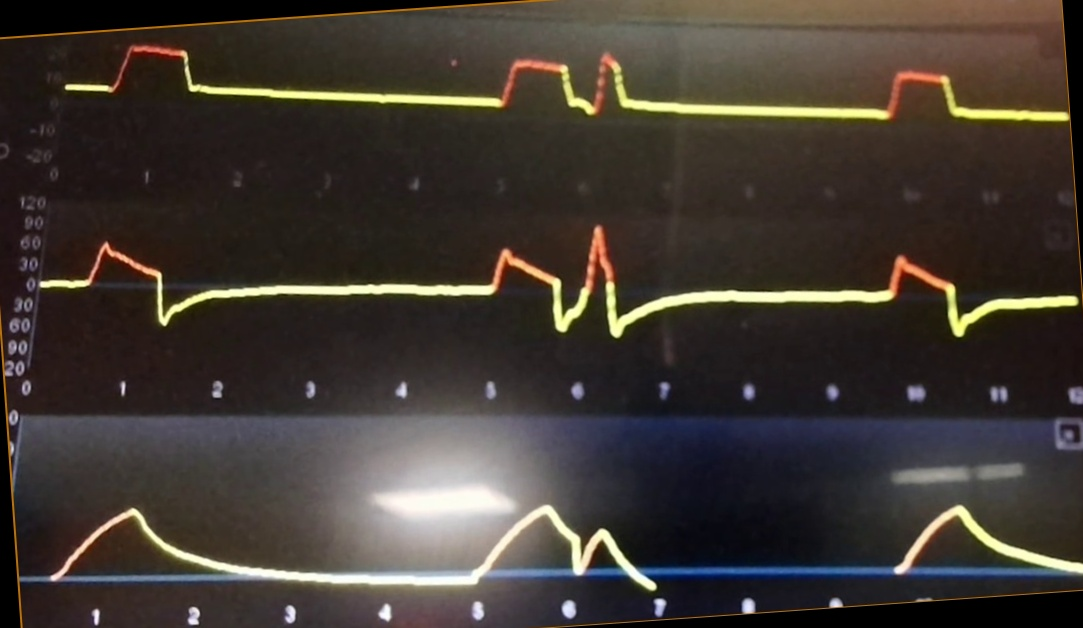Double_Triggering Flow: (79, 217, 979, 344)
Double_Triggering Volume: (50, 488, 984, 594)
